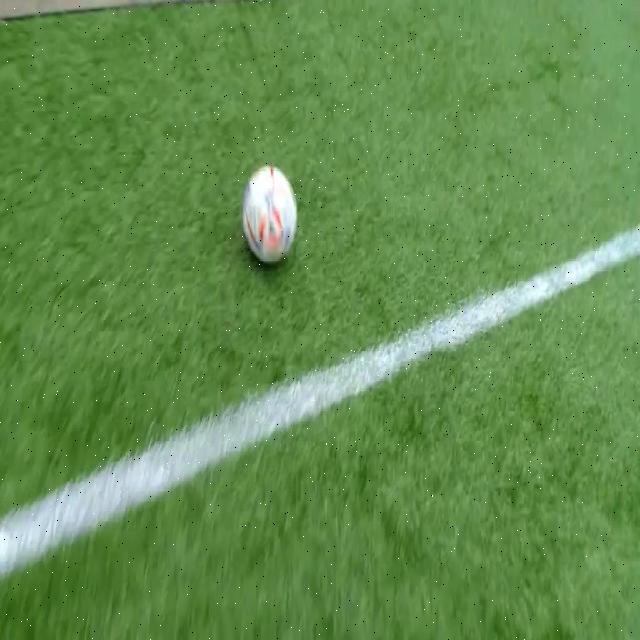ball: (242, 164, 298, 265)
